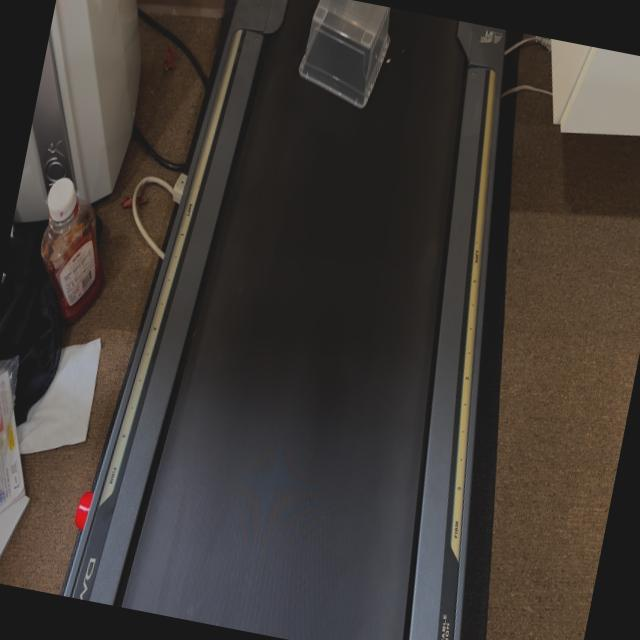Trash: (292, 0, 431, 105)
